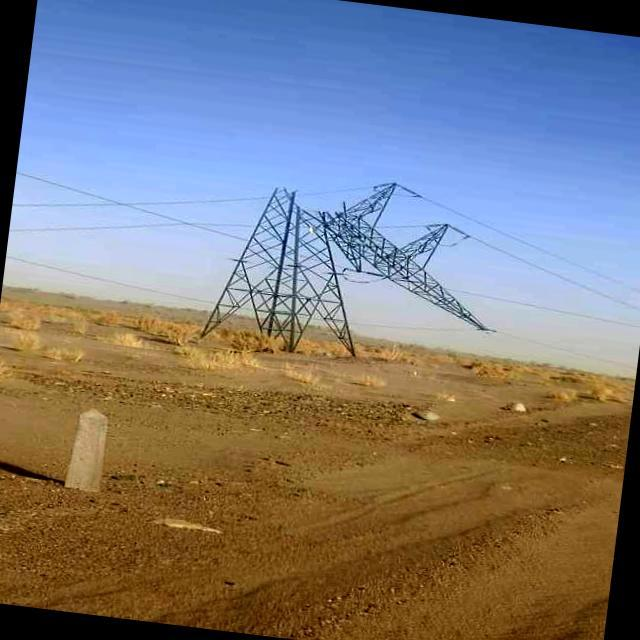Broken Pole: (200, 183, 489, 356)
